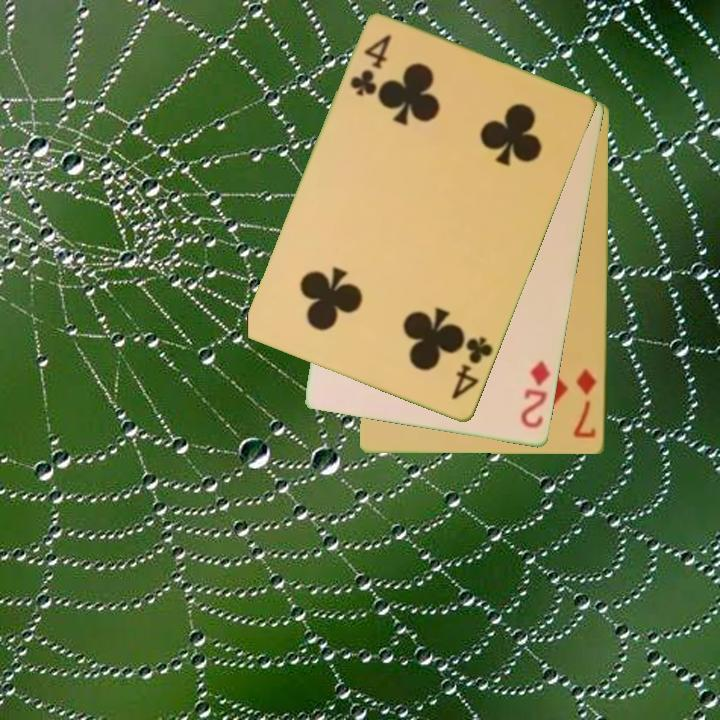2d: (517, 357, 554, 432)
4c: (346, 31, 395, 100), (448, 333, 496, 403)
7d: (571, 365, 600, 441)
